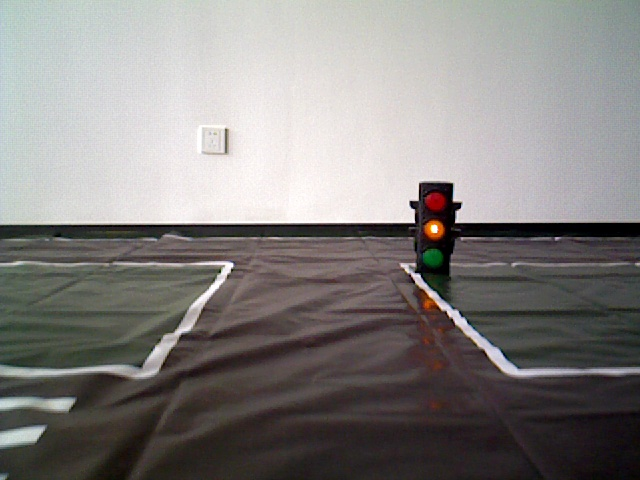yellow: (416, 178, 456, 272)
